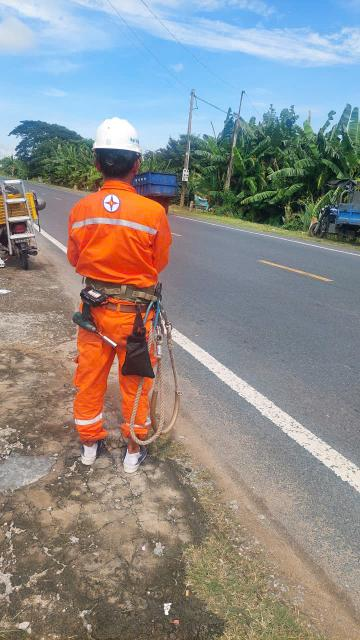harness: (72, 265, 170, 321)
helmet: (79, 107, 150, 164)
shoes: (118, 437, 158, 480), (77, 421, 110, 473)
